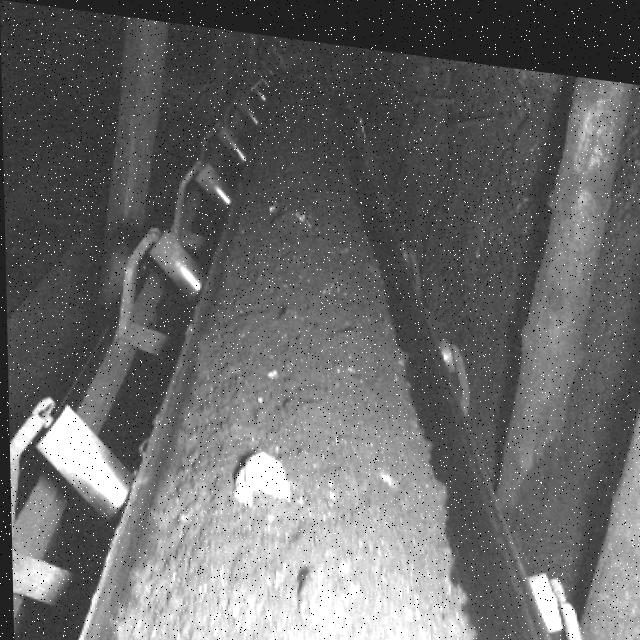large_sized_coal: (231, 440, 288, 507)
